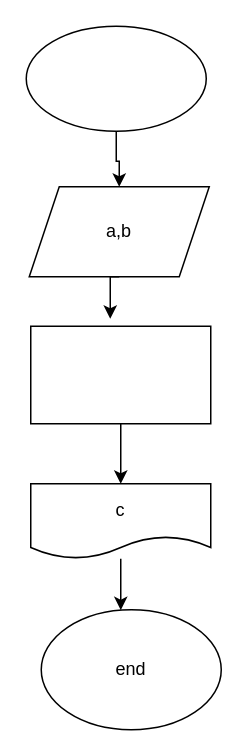
The diagram is 248 pixels wide and 756 high, and some of its shapes have lost their labels. The shapes that lost their labels are listed below. From the top down, each one's centre as x and y in pixels, then its label:
point (115, 78): start
point (120, 374): c=a+b
